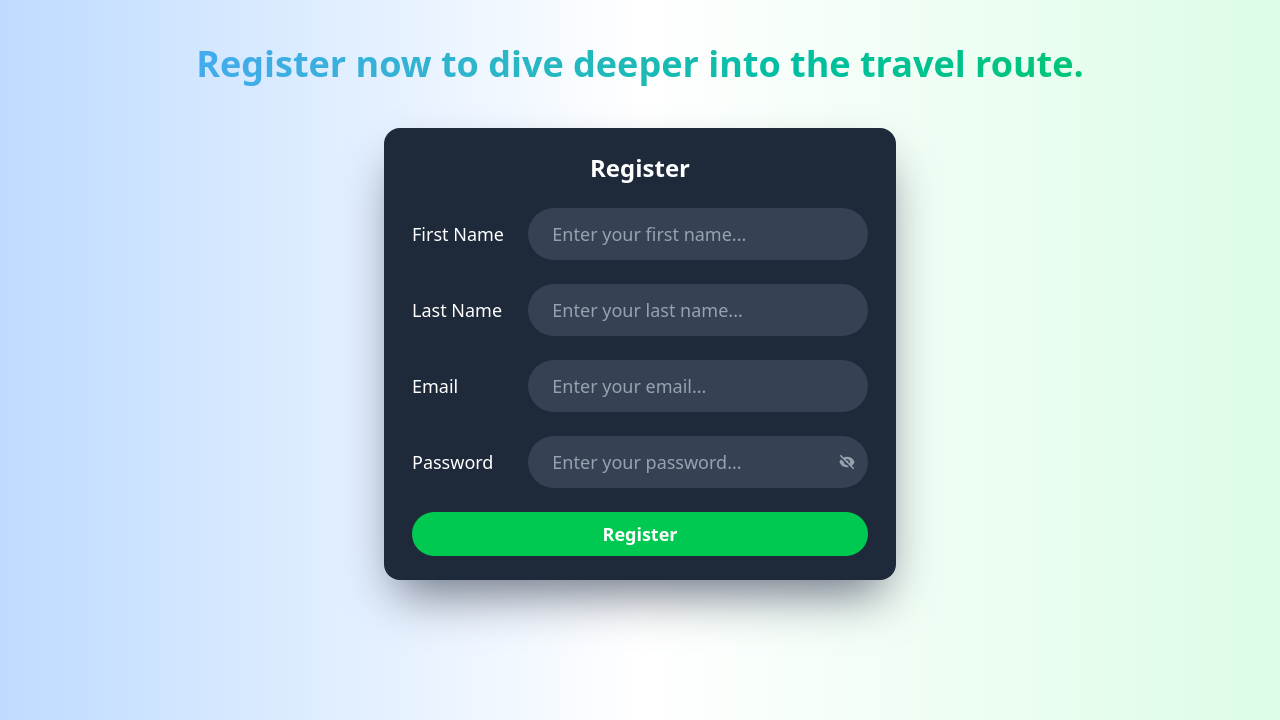
Test: Register Page › shows validation errors when fields are empty
Click the button "Register": [640, 534] box x1=412 y1=512 x2=868 y2=556
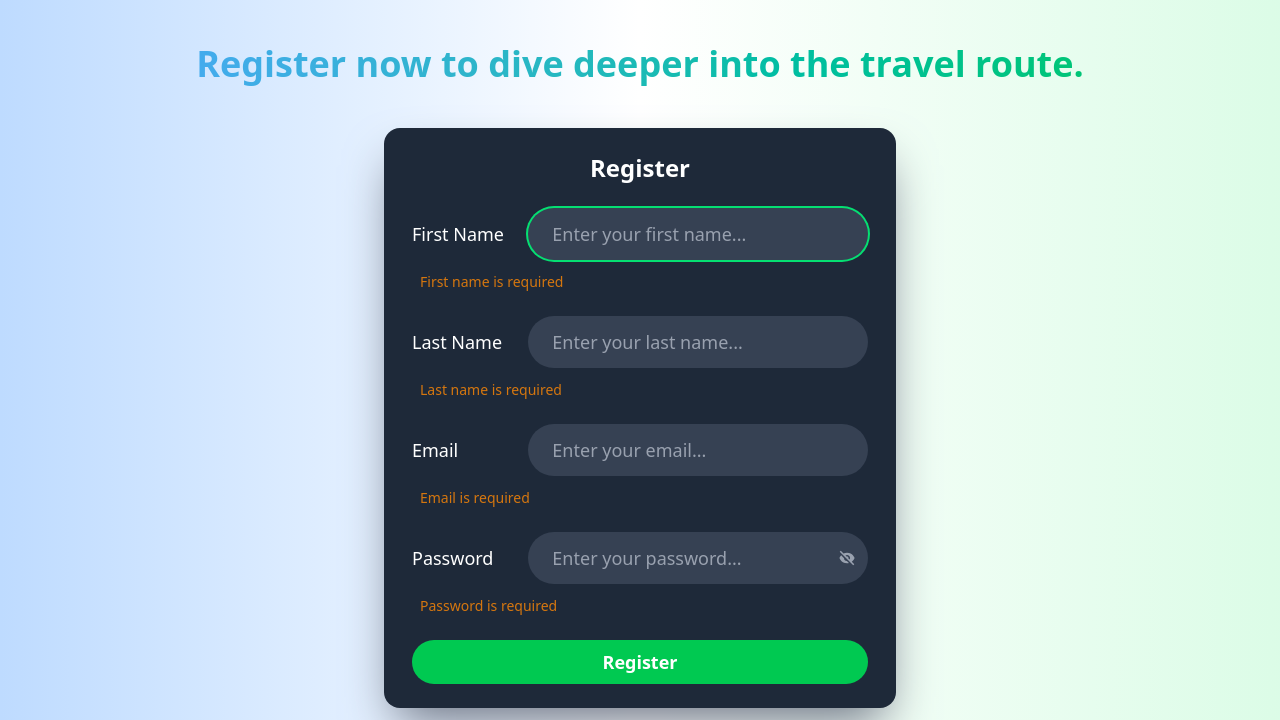
Expected: the text "First name is required" is shown, x1=420 y1=272 x2=563 y2=291
Expected: the text "Last name is required" is shown, x1=420 y1=380 x2=562 y2=399
Expected: the text "Email is required" is shown, x1=420 y1=488 x2=530 y2=507
